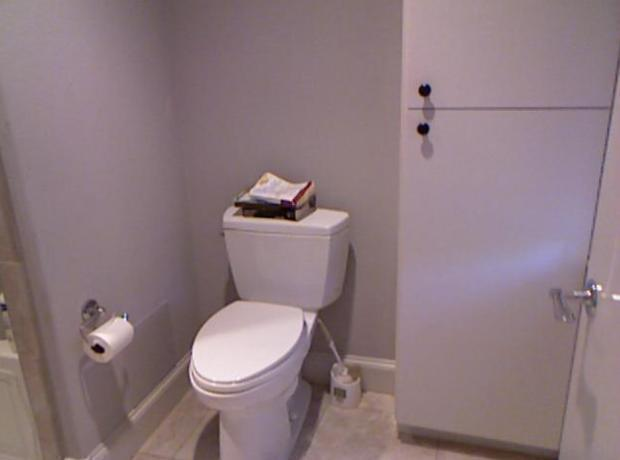Armario: (400, 2, 614, 459)
Sanitario: (188, 200, 347, 456)
